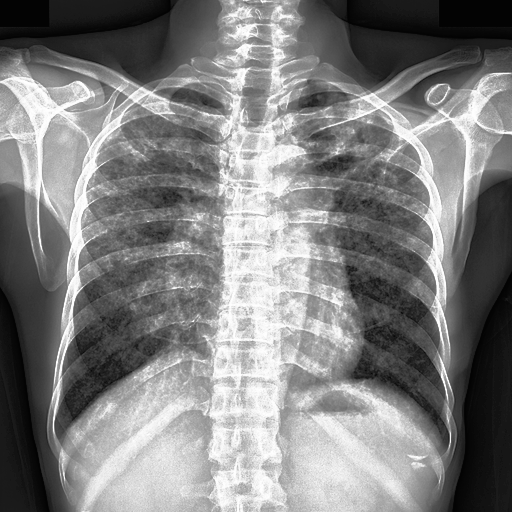Cardiomegaly: (299, 95, 453, 365), (75, 101, 217, 351)
Consolidation: (264, 143, 314, 213)
ILD: (304, 93, 435, 371), (75, 101, 217, 351)
